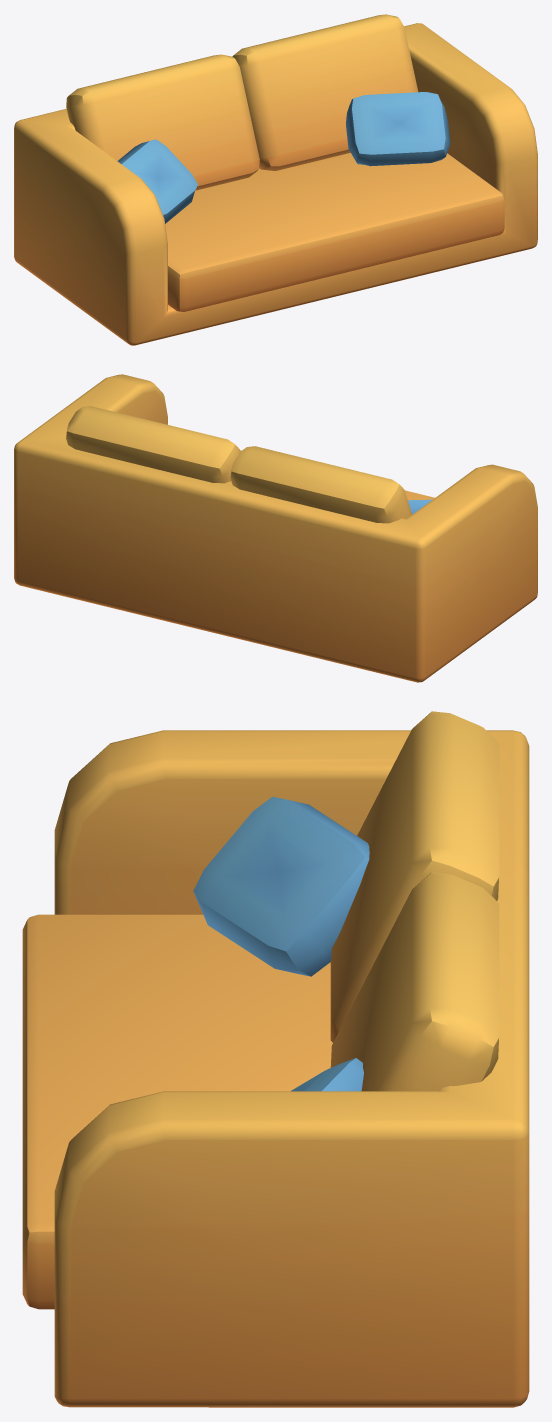
Rendered from couch_pillows.glb.
3 renders of one model, top to bottom at view 1: azimuth 30°, elevation 25°; view 2: azimuth 150°, elevation 25°; view 3: azimuth 270°, elevation 25°, orthographic. The views are drawn at different scales.
Visible parts, largest first — view 1: couch_pillows; view 2: couch_pillows; view 3: couch_pillows.
Boxes of the visible parts, bbox=[...] form: couch_pillows: bbox=[14, 14, 537, 345]; couch_pillows: bbox=[14, 374, 537, 682]; couch_pillows: bbox=[22, 711, 529, 1407].
Bounding box in the file's own units: 3 × 1.22 × 1.6.
1 material, 1 textured.
